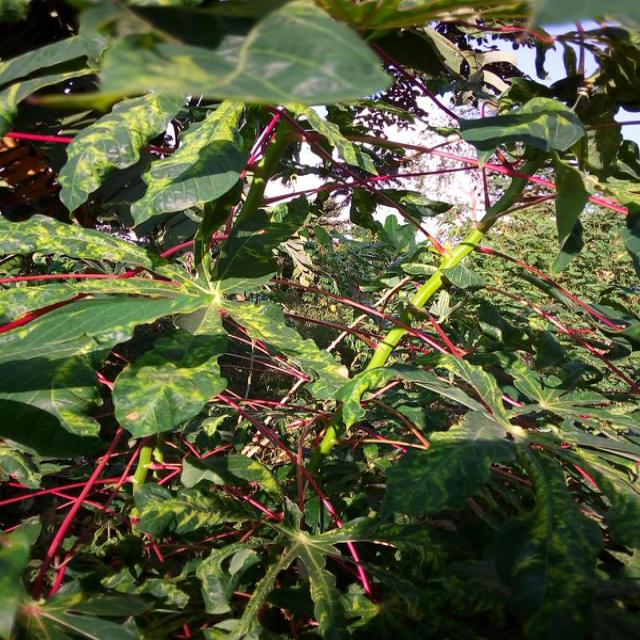Mosaico: (0, 12, 356, 201), (0, 238, 330, 407), (147, 464, 410, 640), (409, 335, 616, 523)
